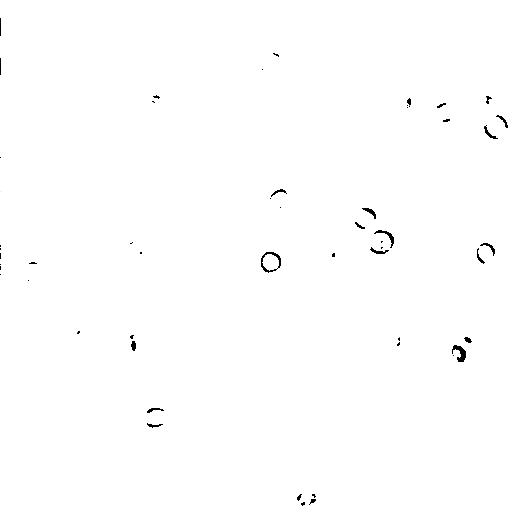micro-algae: (370, 230, 486, 345), (1, 317, 72, 411), (115, 18, 194, 95), (89, 360, 131, 399), (224, 327, 263, 356), (118, 326, 149, 362), (459, 281, 489, 315), (453, 325, 484, 356), (482, 112, 510, 142), (143, 184, 170, 213), (367, 229, 396, 256), (67, 322, 97, 347), (426, 301, 453, 328), (141, 405, 170, 430), (377, 330, 404, 355), (259, 250, 285, 275), (258, 52, 285, 76), (474, 241, 498, 267), (294, 487, 321, 510), (362, 1, 404, 15), (354, 206, 378, 230), (430, 103, 457, 123), (23, 261, 46, 283), (392, 90, 413, 114), (322, 242, 343, 266), (124, 239, 146, 261), (269, 187, 290, 209), (449, 344, 468, 364), (477, 94, 498, 108)
